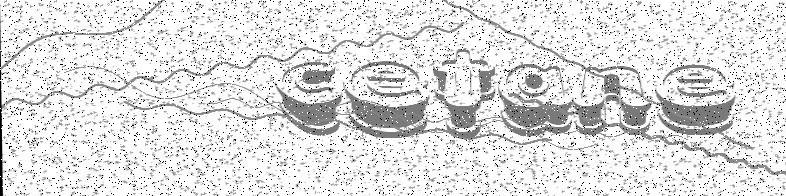a: (498, 62, 573, 136)
c: (275, 60, 342, 136)
e: (343, 61, 429, 138), (653, 62, 737, 136)
n: (573, 65, 653, 135)
t: (432, 48, 497, 140)
